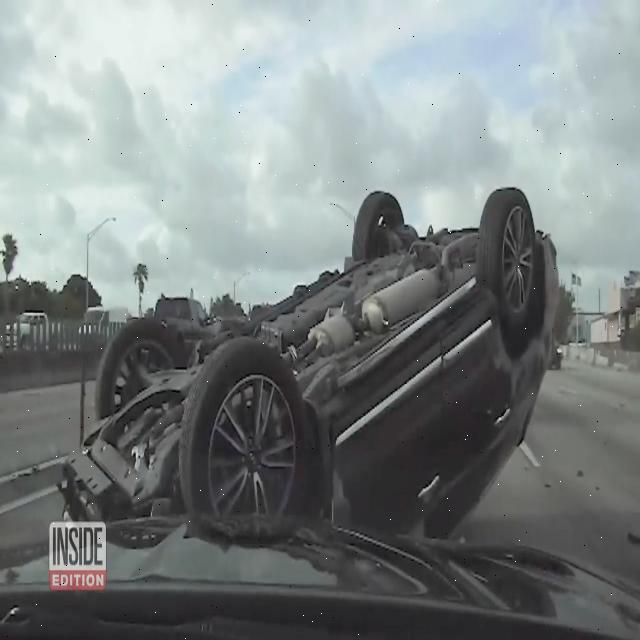accident: (57, 185, 561, 537)
